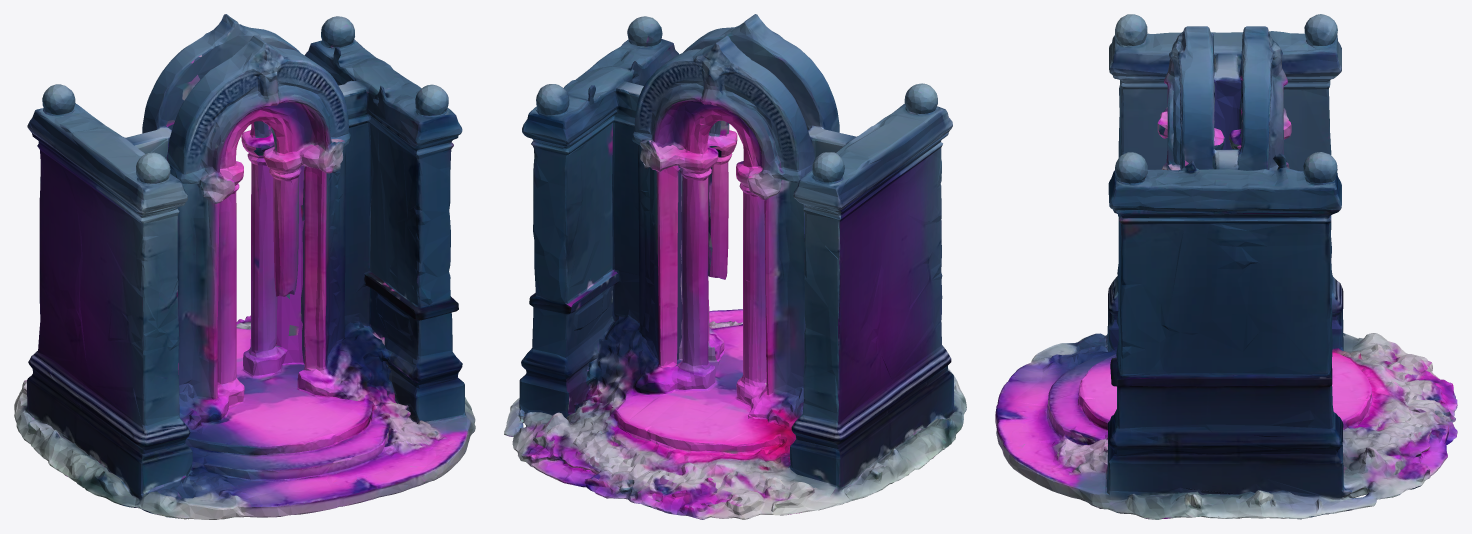
File: ruin-dais-generated-2026-04-19T23-21-06-179Z.medium.glb
3 renders of one model, left to right at view 1: azimuth 30°, elevation 25°; view 2: azimuth 150°, elevation 25°; view 3: azimuth 270°, elevation 25°, orthographic.
Visible parts, largest first — view 1: temp_mesh.ply; view 2: temp_mesh.ply; view 3: temp_mesh.ply.
Boxes of the visible parts, left/top/right/bottom form: temp_mesh.ply: left=14, top=14, right=475, bottom=519; temp_mesh.ply: left=504, top=14, right=966, bottom=519; temp_mesh.ply: left=995, top=14, right=1457, bottom=519.
Bounding box in the file's own units: 1.89 × 1.88 × 1.96.
1 material, 1 textured.
